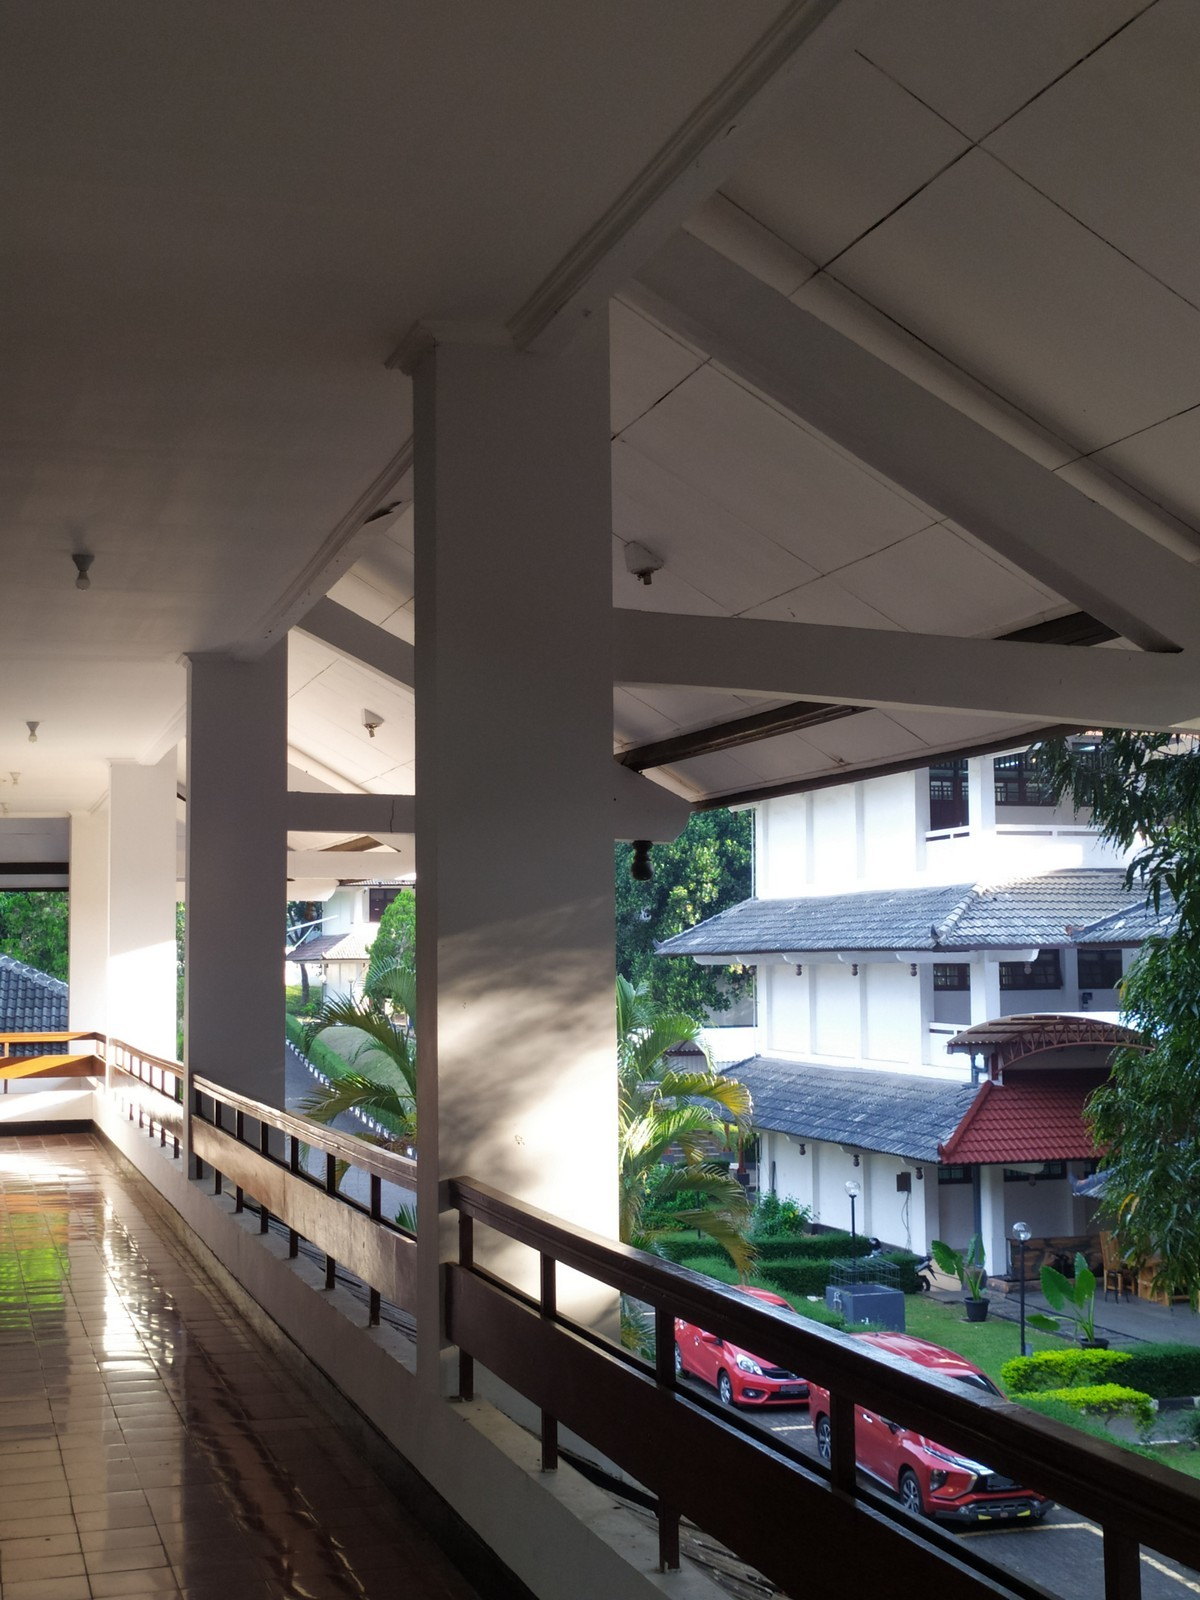concrete beam: (574, 593, 1192, 738)
concrete column: (403, 305, 637, 1407), (171, 643, 297, 1186)
